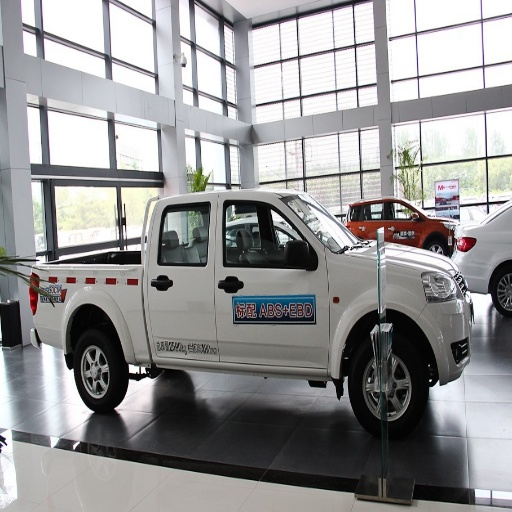back_right_door: (148, 201, 222, 356)
front_right_door: (214, 201, 325, 365)
trunk: (2, 268, 153, 363)
